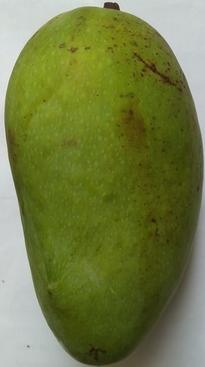Unripe: (1, 0, 205, 367)
